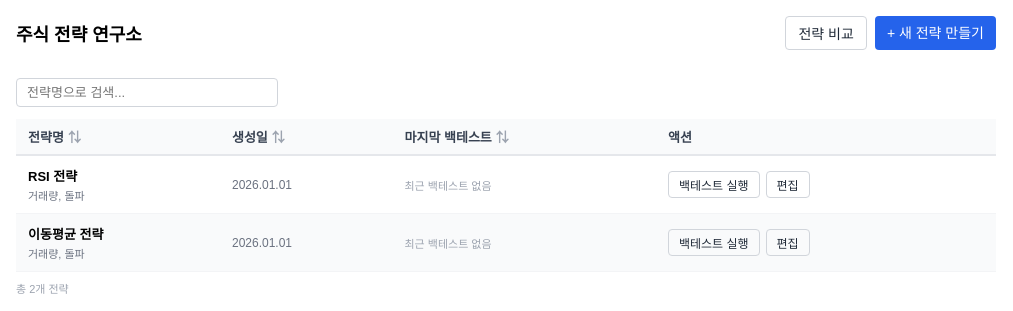
Test case: StrategyListPage › 전략명 필터 초기화: 빈 문자열로 바꾸면 전체 표시
Type "RSI" into the field with test id "strategy-name-filter" at {"x": 147, "y": 93}, box [16,78,278,107]
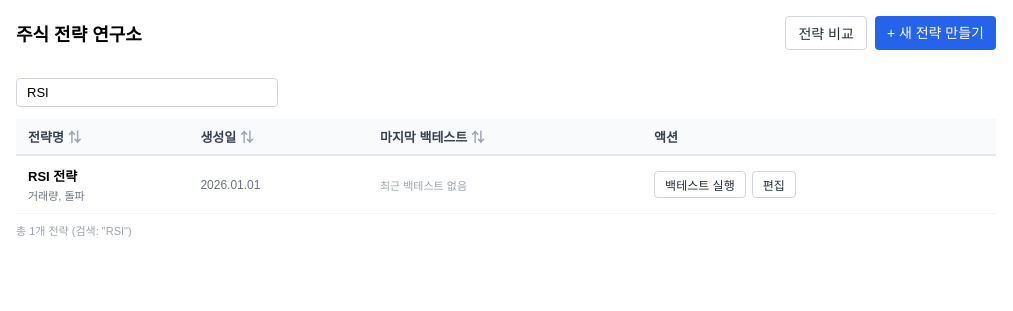
Expected: the text "이동평균 전략" is gone
Clear the field with test id "strategy-name-filter" at {"x": 147, "y": 93}, box [16,78,278,107]
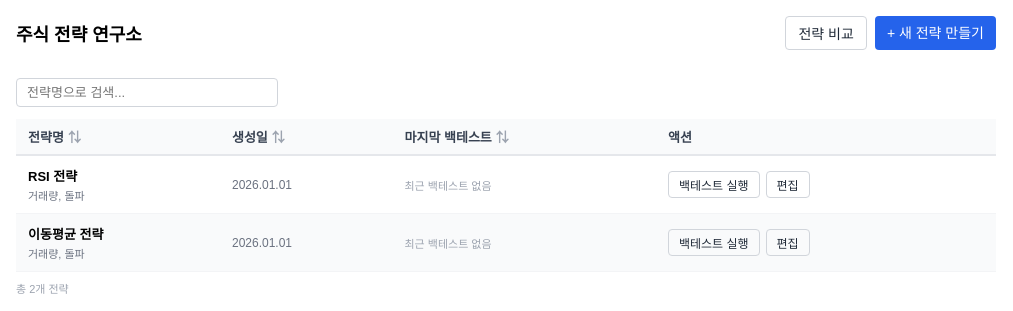
Expected: the text "RSI 전략" is shown, [28,169,77,184]
Expected: the text "이동평균 전략" is shown, [28,227,103,242]
